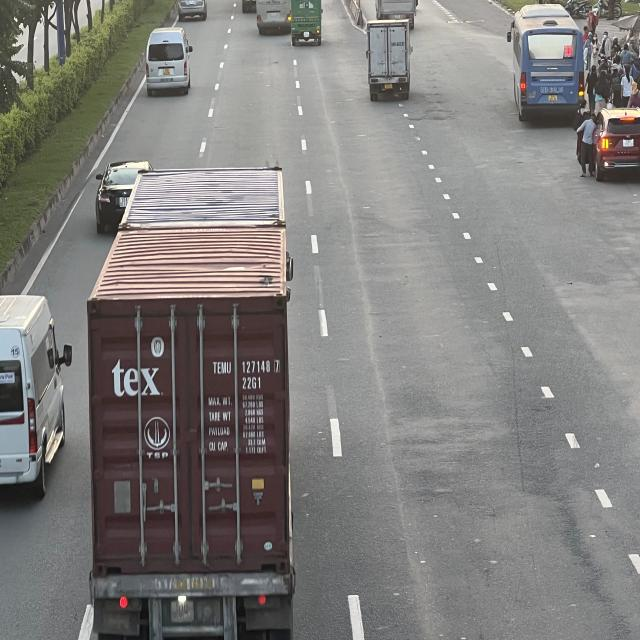car: (93, 162, 152, 237), (579, 107, 640, 177)
coach: (511, 3, 586, 119)
container: (80, 161, 292, 634)
truck: (366, 17, 412, 98), (288, 0, 322, 45)
van: (0, 294, 72, 501), (148, 29, 196, 97)
